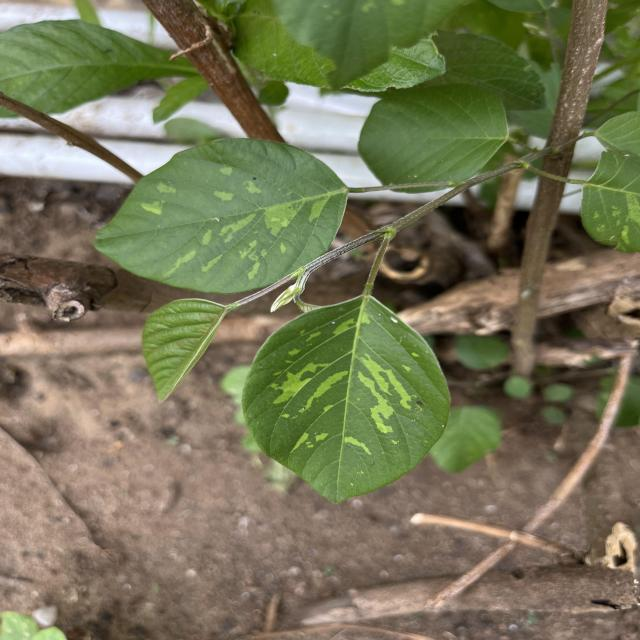Desmodium gangeticum: (240, 290, 456, 507), (89, 134, 352, 295)
